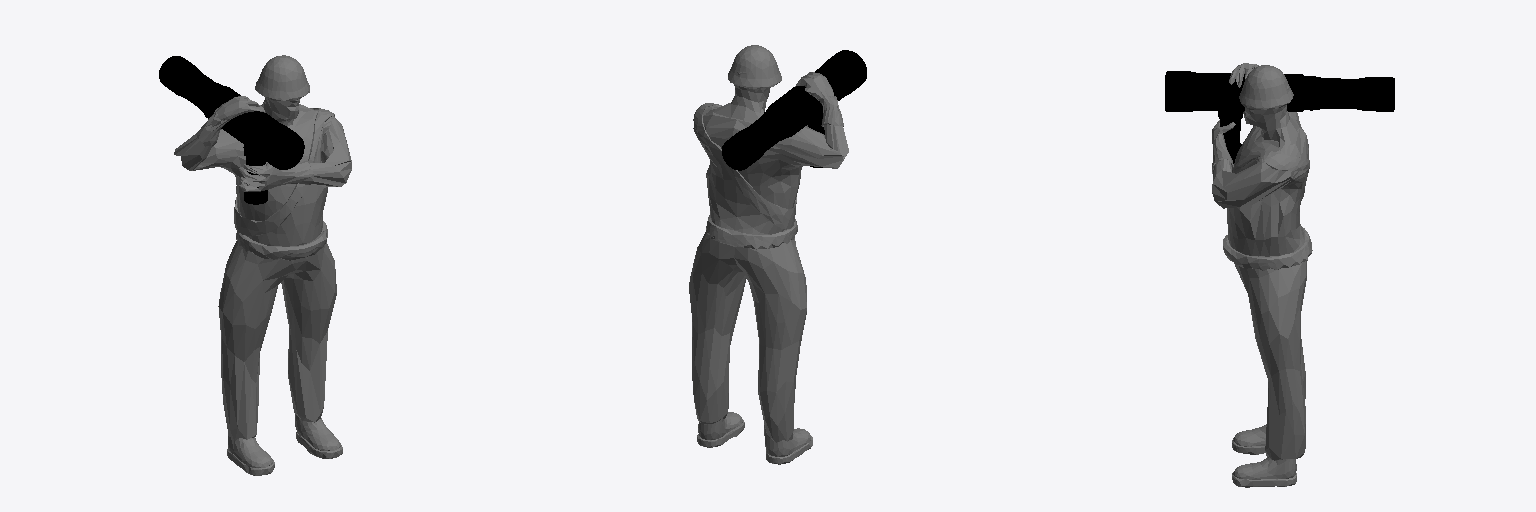
File: soldier.obj
3 views of the same model, side by side, from view 1: azimuth 30°, elevation 25°; view 2: azimuth 150°, elevation 25°; view 3: azimuth 270°, elevation 25° (orthographic).
Parts seen in each view (by area): view 1: group2 polySurface6, weapon1:Group58496 group2, group2 polySurface10, group2 polySurface11, group2 polySurface7, group2 polySurface9, group2 polySurface1, group2 polySurface4; view 2: group2 polySurface6, weapon1:Group58496 group2, group2 polySurface10, group2 polySurface11, group2 polySurface7, group2 polySurface9, group2 polySurface4, group2 polySurface1; view 3: group2 polySurface6, weapon1:Group58496 group2, group2 polySurface11, group2 polySurface9, group2 polySurface1.
Boxes of the visible parts, x1=… form: group2 polySurface6: x1=174, y1=55, x2=351, y2=291; weapon1:Group58496 group2: x1=159, y1=56, x2=304, y2=204; group2 polySurface10: x1=218, y1=265, x2=287, y2=361; group2 polySurface11: x1=281, y1=252, x2=336, y2=347; group2 polySurface7: x1=221, y1=337, x2=259, y2=440; group2 polySurface9: x1=288, y1=328, x2=327, y2=422; group2 polySurface1: x1=295, y1=414, x2=340, y2=450; group2 polySurface4: x1=228, y1=436, x2=272, y2=467; group2 polySurface6: x1=693, y1=45, x2=848, y2=277; weapon1:Group58496 group2: x1=722, y1=50, x2=866, y2=170; group2 polySurface10: x1=744, y1=261, x2=806, y2=349; group2 polySurface11: x1=689, y1=248, x2=746, y2=344; group2 polySurface7: x1=758, y1=341, x2=800, y2=442; group2 polySurface9: x1=692, y1=322, x2=729, y2=424; group2 polySurface4: x1=764, y1=425, x2=810, y2=456; group2 polySurface1: x1=698, y1=412, x2=742, y2=439; group2 polySurface6: x1=1212, y1=63, x2=1312, y2=313; weapon1:Group58496 group2: x1=1165, y1=71, x2=1394, y2=163; group2 polySurface11: x1=1248, y1=276, x2=1306, y2=381; group2 polySurface9: x1=1265, y1=364, x2=1305, y2=460; group2 polySurface1: x1=1233, y1=457, x2=1296, y2=479.
Size of the model in its own units: 4.42 by 10.68 by 5.6.